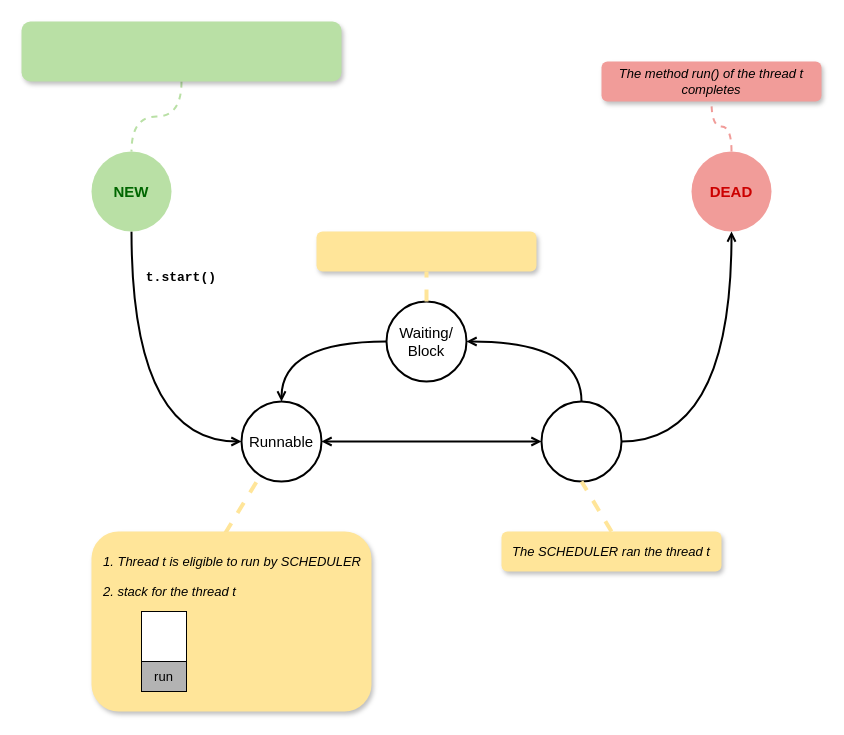
This 844x735 diagram has some shape labels left out. Here are the shapes that lost their labels. From the top down, the centre of each, then its label:
point (182, 52): Runnable r = new Runnable(); // JOB Thread t = new Thread( r ); // WORKER
point (427, 252): The thread t is waiting for a resource, is sleeping...
point (581, 441): Running
